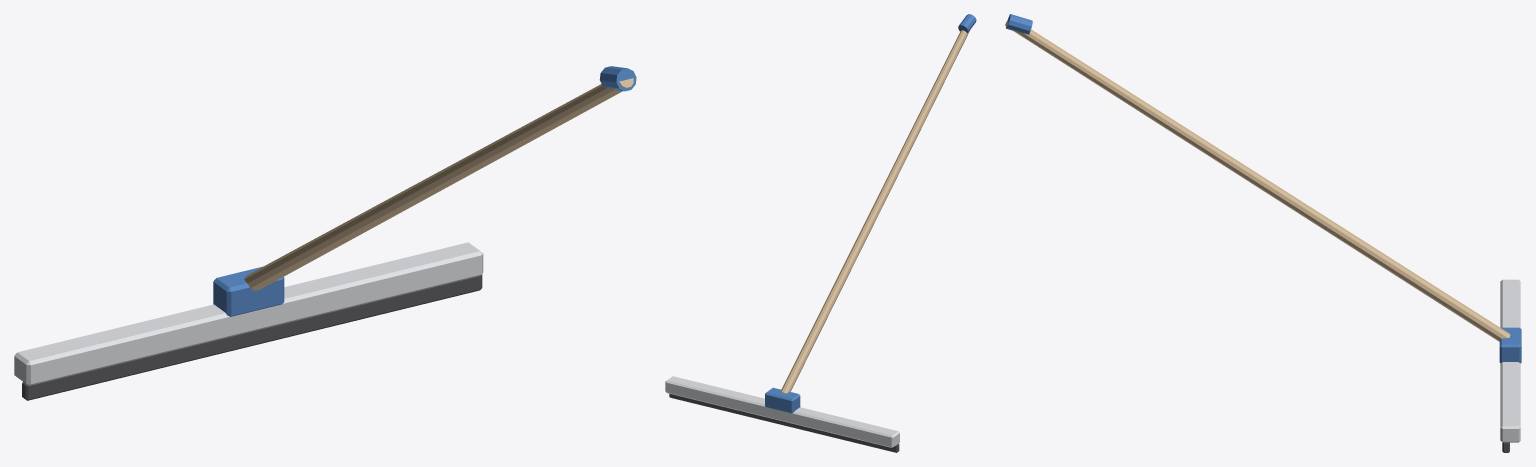
File: ice-hockey-arena-and-locker-room-rink-squeegee-a1d582b1__33706.glb
3 renders of one model, left to right at view 1: azimuth 30°, elevation 25°; view 2: azimuth 150°, elevation 25°; view 3: azimuth 270°, elevation 25°, orthographic. The views are drawn at different scales.
Parts seen in each view (by area): view 1: rink-squeegee; view 2: rink-squeegee; view 3: rink-squeegee.
Part boxes in pixels (bbox=[...]): rink-squeegee: bbox=[14, 66, 636, 400]; rink-squeegee: bbox=[665, 14, 976, 452]; rink-squeegee: bbox=[1005, 14, 1521, 452].
Size of the model in its own units: 0.95 by 1.09 by 1.4.
